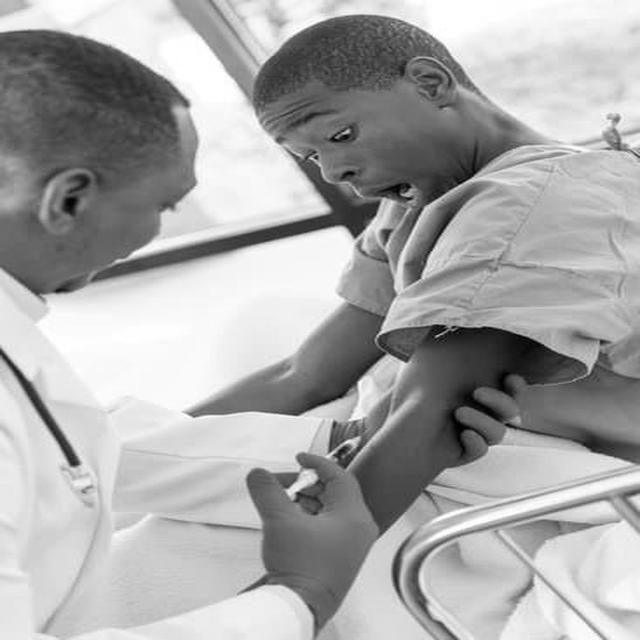Fear: (252, 88, 432, 208)
